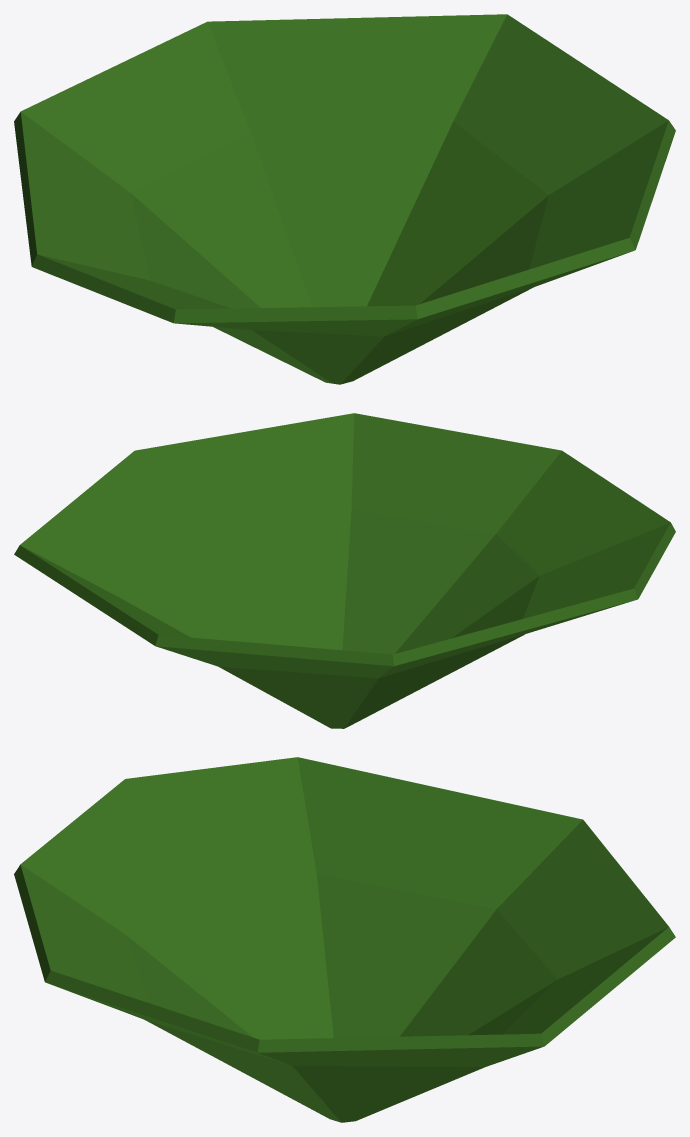
File: Папороть_lod1.fbx
The picture shows the model from 3 angles, top to bottom: view 1: azimuth 30°, elevation 25°; view 2: azimuth 150°, elevation 25°; view 3: azimuth 270°, elevation 25°; orthographic projection. The views are drawn at different scales.
Visible parts, largest first — view 1: fern_LOD_1; view 2: fern_LOD_1; view 3: fern_LOD_1.
Part boxes in pixels (x1,y1,x2,y2): fern_LOD_1: [14, 14, 675, 384]; fern_LOD_1: [14, 413, 675, 728]; fern_LOD_1: [14, 757, 675, 1122].
Size of the model in its own units: 6924 by 2343 by 6740.
